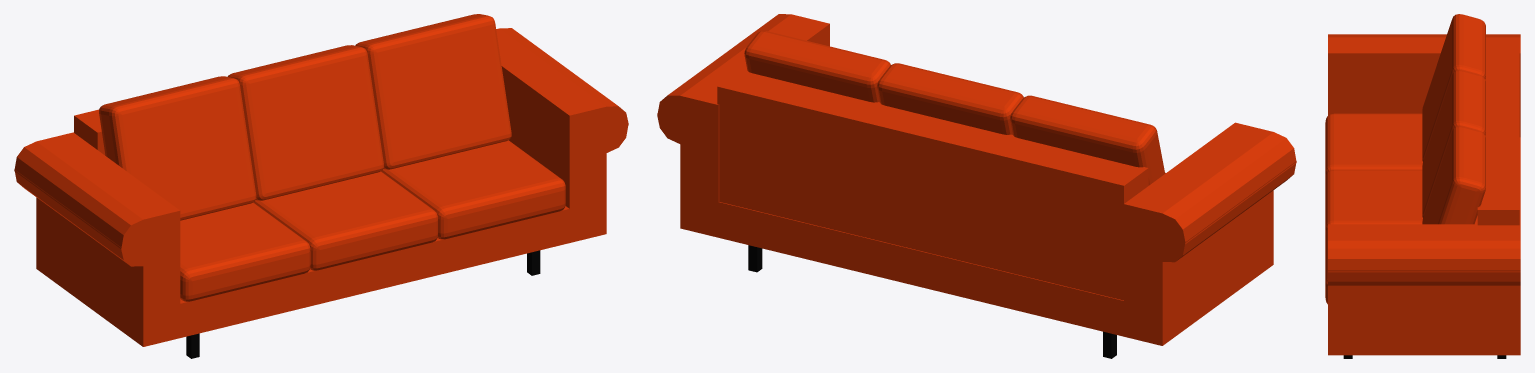
File: couch.glb
3 renders of one model, left to right at view 1: azimuth 30°, elevation 25°; view 2: azimuth 150°, elevation 25°; view 3: azimuth 270°, elevation 25°, orthographic. The views are drawn at different scales.
Parts seen in each view (by area): view 1: Box001, Box007, Box008, Box006, Box004, Box003, Box005, Box002; view 2: Box002, Box001, Box006, Box008, Box007; view 3: Box001, Box002, Box005, Box004, Box008, Box006, Box007, Box003.
Boxes of the visible parts, x1,y1,x2,y2 form: Box001: (14, 28, 628, 346); Box007: (227, 45, 383, 200); Box008: (355, 14, 511, 169); Box006: (99, 76, 256, 220); Box004: (253, 171, 437, 270); Box003: (381, 140, 565, 239); Box005: (180, 202, 310, 301); Box002: (74, 109, 105, 155); Box002: (717, 69, 1148, 300); Box001: (657, 14, 1296, 345); Box006: (1010, 95, 1165, 185); Box008: (744, 30, 890, 102); Box007: (877, 63, 1023, 134); Box001: (1328, 34, 1520, 355); Box002: (1477, 38, 1519, 225); Box005: (1325, 113, 1422, 178); Box004: (1325, 170, 1422, 234); Box008: (1422, 126, 1485, 224); Box006: (1422, 14, 1485, 161); Box007: (1422, 70, 1485, 217); Box003: (1325, 228, 1327, 304).
Size of the model in its own units: 2.09 by 0.8154 by 0.7725.
